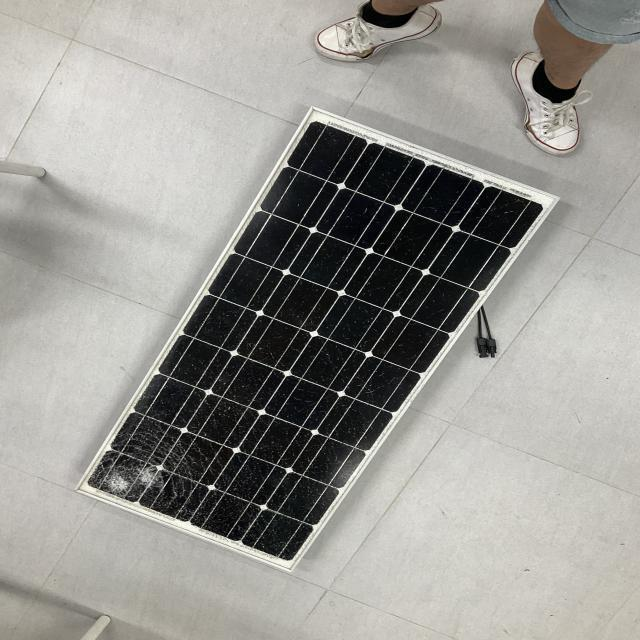Photovoltaic-Panel: (77, 100, 567, 610)
